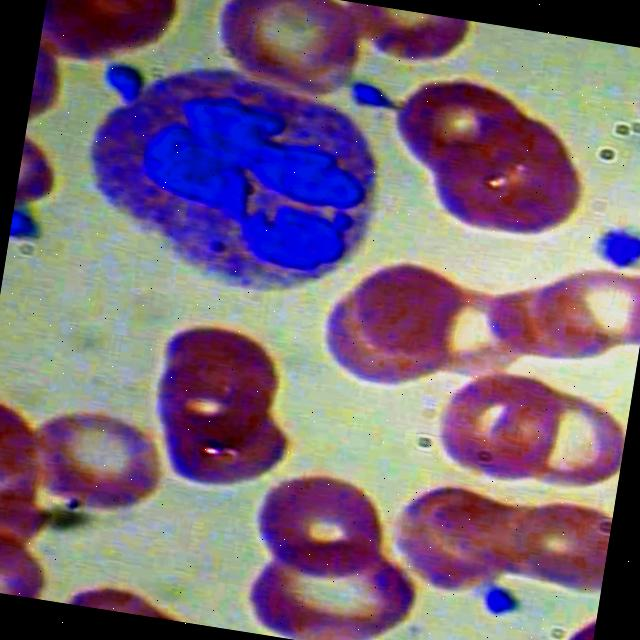Platelets: (96, 52, 152, 105), (344, 69, 402, 117), (591, 222, 640, 276), (479, 577, 526, 619), (8, 204, 46, 248)
RBC: (235, 518, 426, 640), (417, 354, 568, 490), (21, 401, 167, 522), (244, 463, 390, 584), (387, 64, 532, 184), (154, 308, 291, 431), (342, 255, 471, 378), (504, 382, 632, 502), (211, 0, 356, 94), (39, 0, 181, 64)
WBC: (61, 45, 396, 331)
